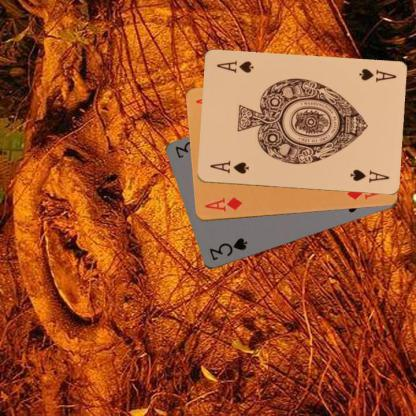3s: (207, 235, 248, 262)
Ad: (202, 194, 243, 214)
As: (356, 66, 397, 84), (207, 159, 250, 176)
